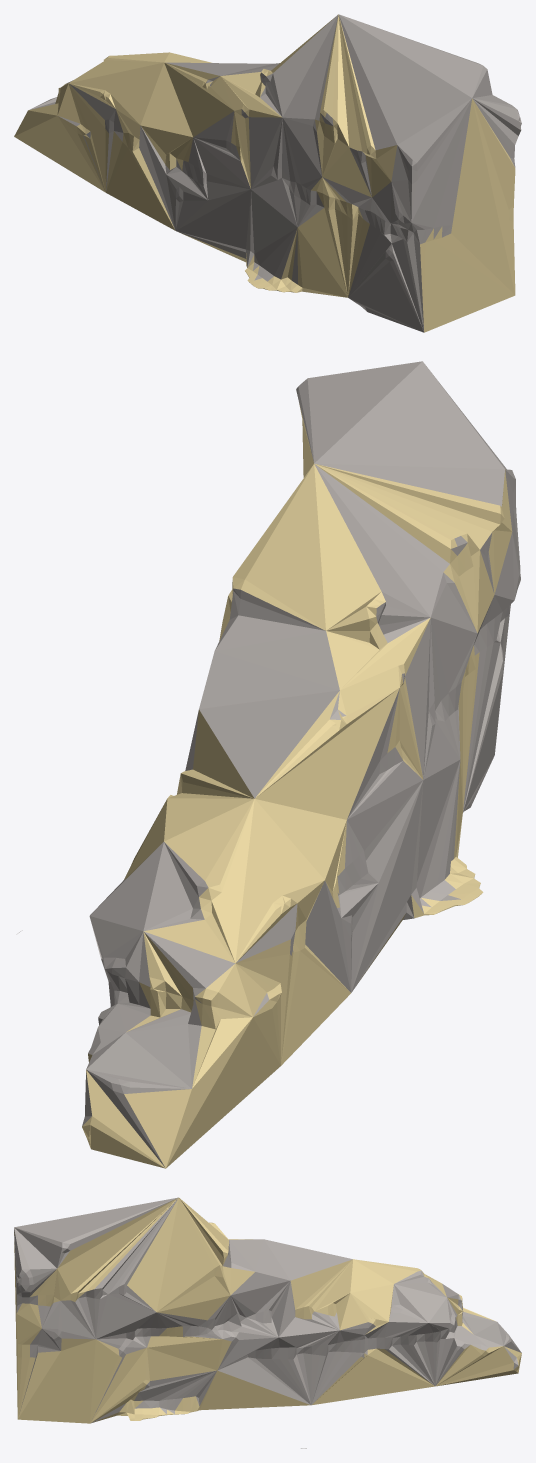
Rendered from rock_f.glb.
3 renders of one model, top to bottom at view 1: azimuth 30°, elevation 25°; view 2: azimuth 150°, elevation 25°; view 3: azimuth 270°, elevation 25°, orthographic. The views are drawn at different scales.
Parts seen in each view (by area): view 1: Mesh_0.010; view 2: Mesh_0.010; view 3: Mesh_0.010.
Part boxes in pixels (x1,y1,x2,y2): Mesh_0.010: (14, 14, 521, 332); Mesh_0.010: (16, 361, 520, 1168); Mesh_0.010: (14, 1197, 521, 1448).
Size of the model in its own units: 0.4254 by 0.4573 by 1.
